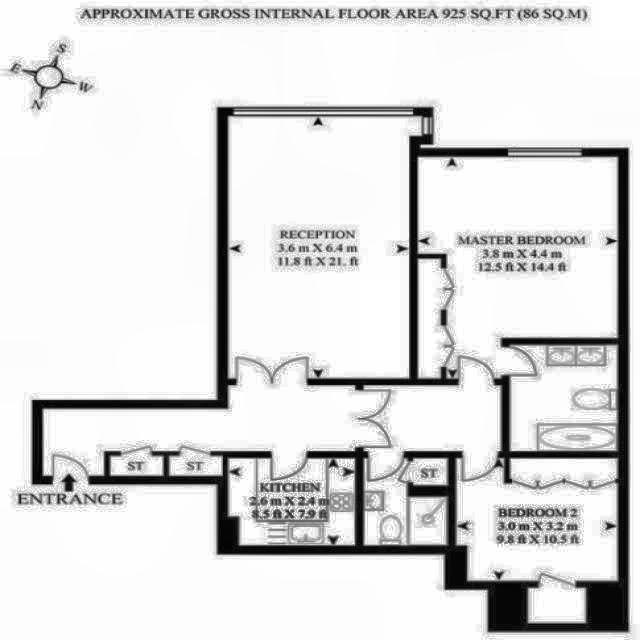room: (227, 117, 420, 378), (418, 156, 618, 378), (457, 458, 618, 580), (42, 409, 223, 476), (509, 345, 617, 451), (228, 457, 355, 545), (364, 385, 502, 451), (229, 385, 355, 451), (364, 459, 447, 544), (528, 588, 586, 622), (111, 455, 164, 475), (169, 456, 222, 474), (413, 459, 448, 485)
